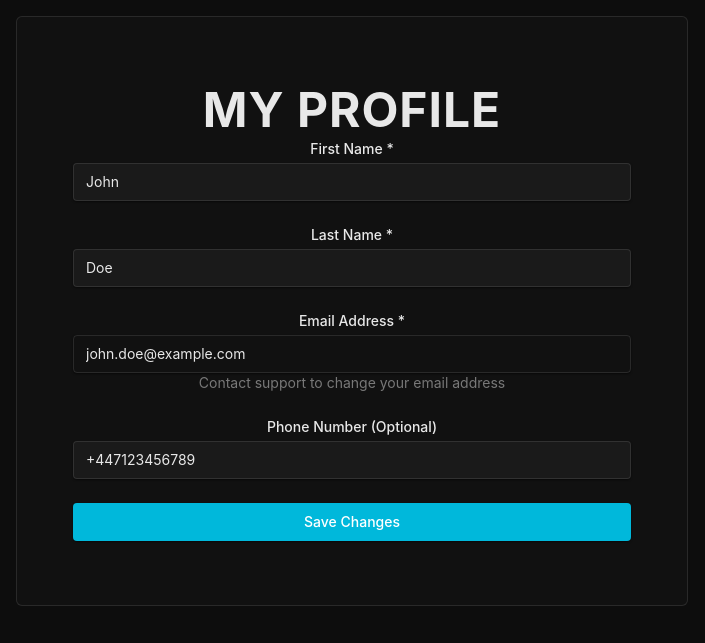
MyProfilePage › Form Validation › should validate required fields
The width and height of the screenshot is (705, 643).
Clear the field labelled "First Name *": {"x": 352, "y": 182} [73, 163, 631, 201]
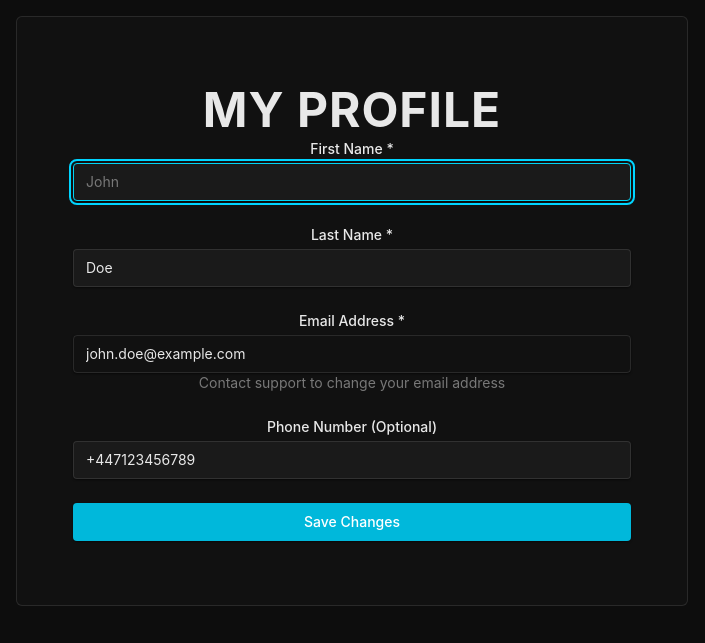
Press Tab
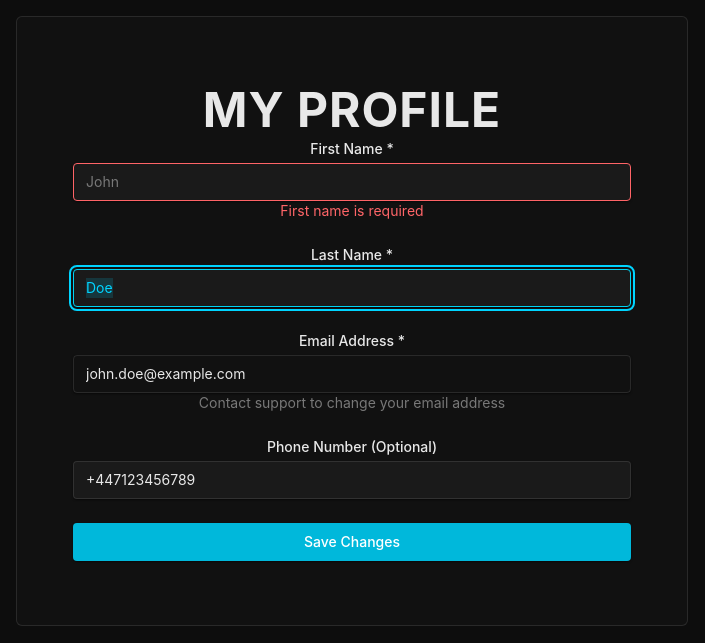
Expected: the text "First name is required" is shown, [280, 202, 424, 219]
